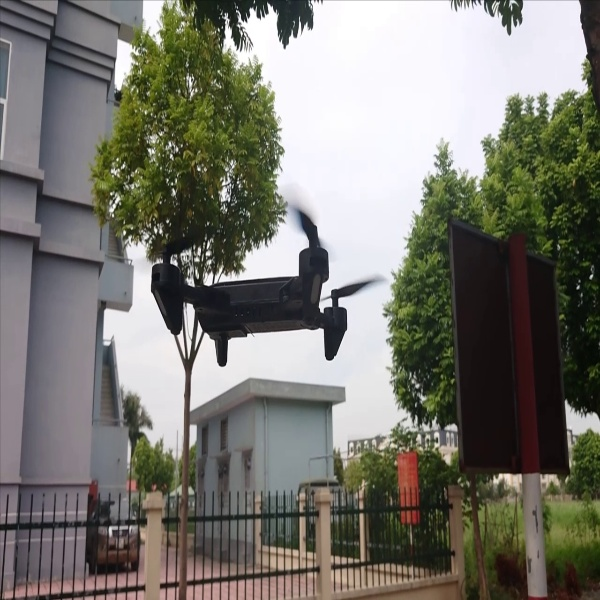drone: (147, 206, 384, 370)
